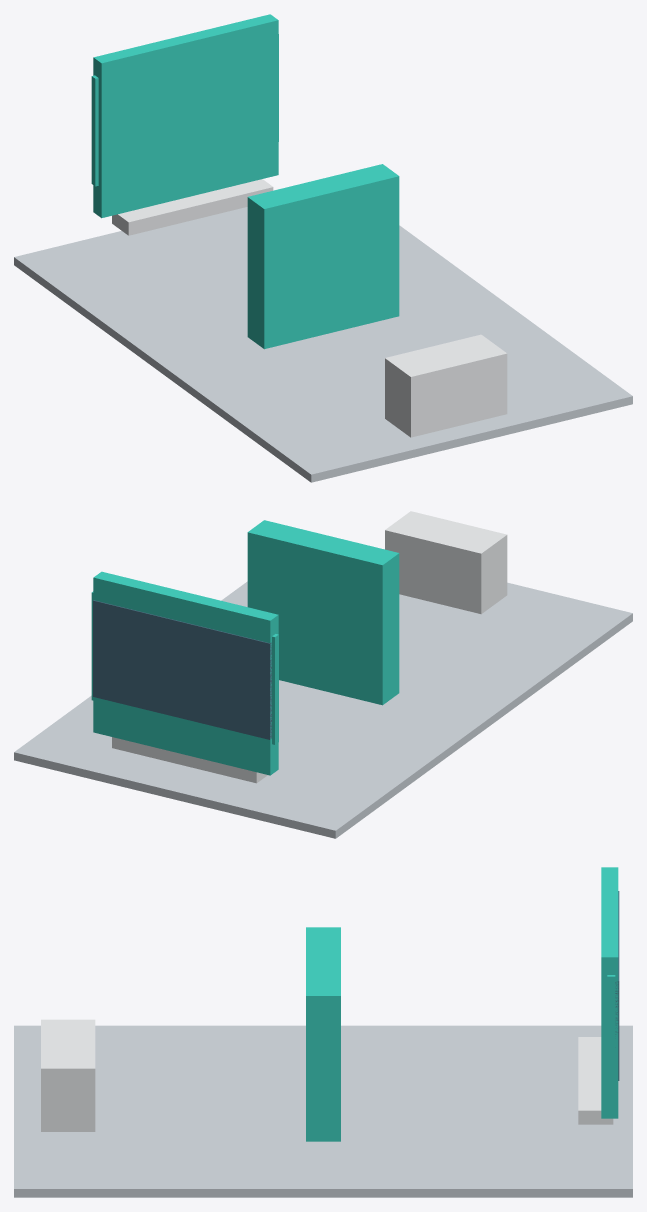
3 views of the same model, one above another, from view 1: azimuth 30°, elevation 25°; view 2: azimuth 150°, elevation 25°; view 3: azimuth 270°, elevation 25° (orthographic). The views are drawn at different scales.
Visible parts, largest first — view 1: Exhibition Booth Concept; view 2: Exhibition Booth Concept; view 3: Exhibition Booth Concept.
Boxes of the visible parts, x1=… form: Exhibition Booth Concept: x1=14, y1=14, x2=632, y2=482; Exhibition Booth Concept: x1=14, y1=511, x2=632, y2=838; Exhibition Booth Concept: x1=14, y1=867, x2=632, y2=1197.
Bounding box in the file's own units: 5 × 2.9 × 8.
